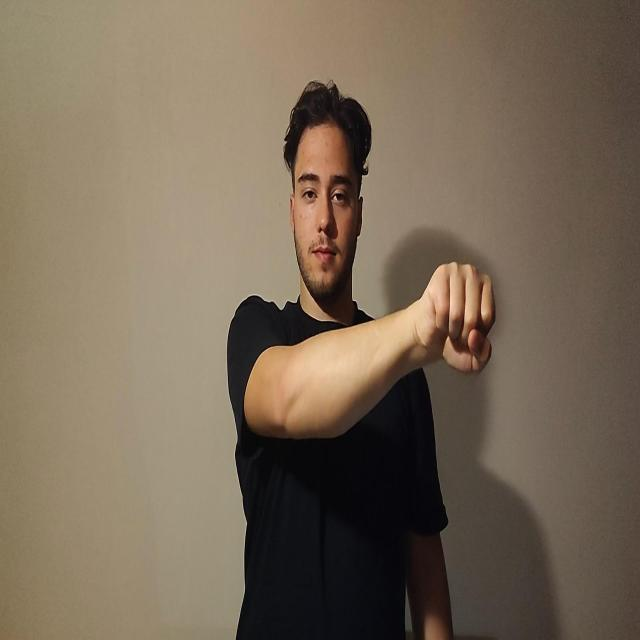yes: (412, 260, 496, 374)
